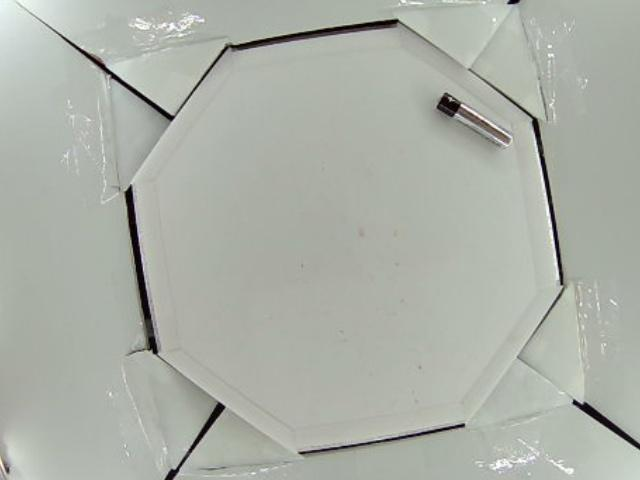Battery: (435, 94, 515, 147)
